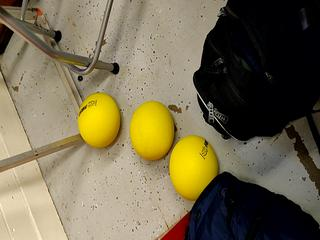power_cell: (70, 87, 126, 158), (121, 93, 177, 164), (164, 133, 220, 204)
